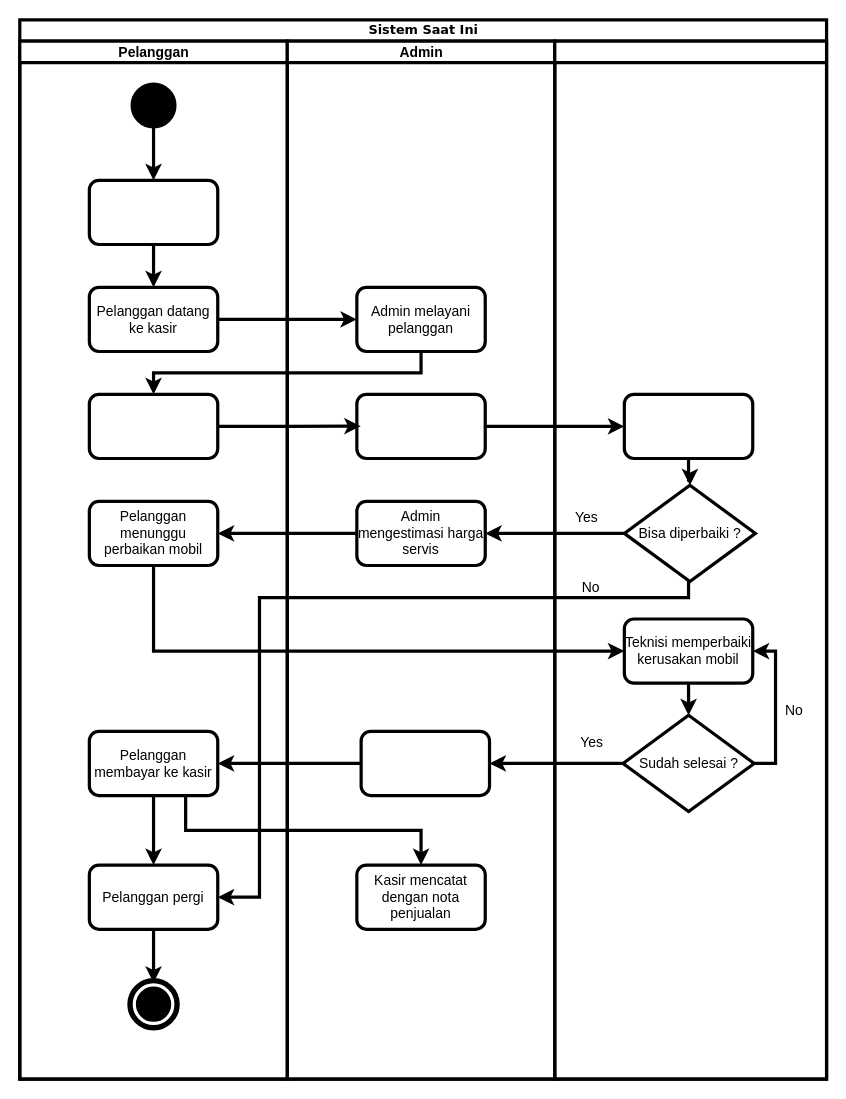
Image size: 846x1099. Some labels were removed from this diagram. The shapes that lost their labels are listed below. From the top down, each one's box as (x1, y1, x2, y2) in pixels, then its label:
(87, 178, 219, 246): Pelanggan Datang
(87, 392, 219, 460): Pelanggan berkonsultasi dengan kasir
(355, 392, 486, 460): Admin memanggil teknisi mekanik
(622, 392, 754, 460): Teknisi memeriksa kerusakan
(553, 39, 828, 1080): Mekanik
(359, 729, 491, 797): Admin memberitahu pelanggan untuk membayar
